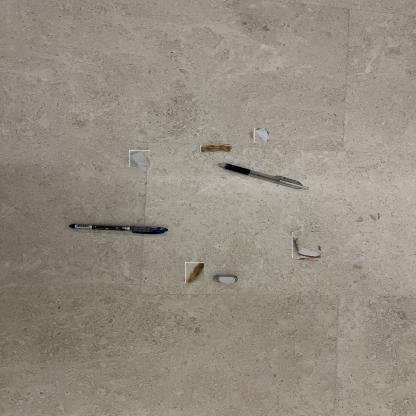dirty: (293, 232, 321, 259), (185, 262, 204, 283), (129, 150, 150, 167), (200, 144, 231, 152), (254, 128, 268, 143)
